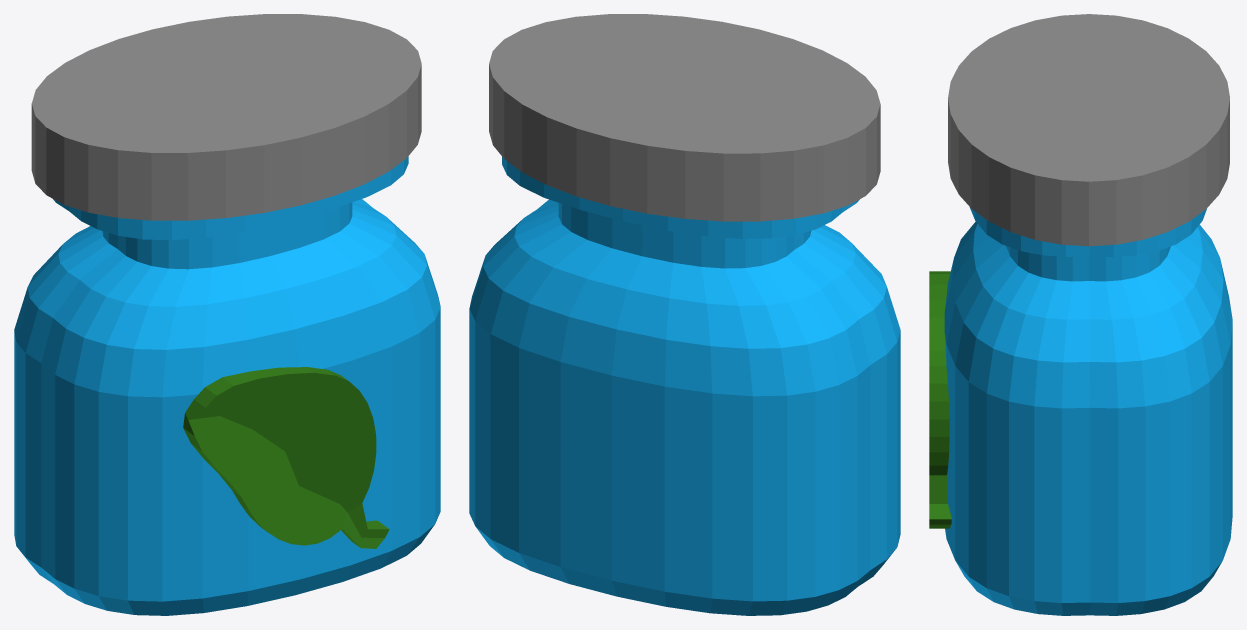
The model's file is Frasco.fbx.
3 views of the same model, side by side, from view 1: azimuth 30°, elevation 25°; view 2: azimuth 150°, elevation 25°; view 3: azimuth 270°, elevation 25° (orthographic). The views are drawn at different scales.
Parts seen in each view (by area): view 1: Circle.001, Cylinder, Circle.002; view 2: Circle.001, Cylinder; view 3: Circle.001, Cylinder, Circle.002.
Part boxes in pixels (x1,y1,x2,y2): Circle.001: (14, 156, 440, 615); Cylinder: (31, 14, 421, 220); Circle.002: (183, 367, 389, 548); Circle.001: (469, 157, 900, 615); Cylinder: (489, 14, 880, 221); Circle.001: (944, 207, 1232, 615); Cylinder: (948, 14, 1229, 246); Circle.002: (929, 271, 951, 528).
Size of the model in its own units: 207 by 243 by 153.
